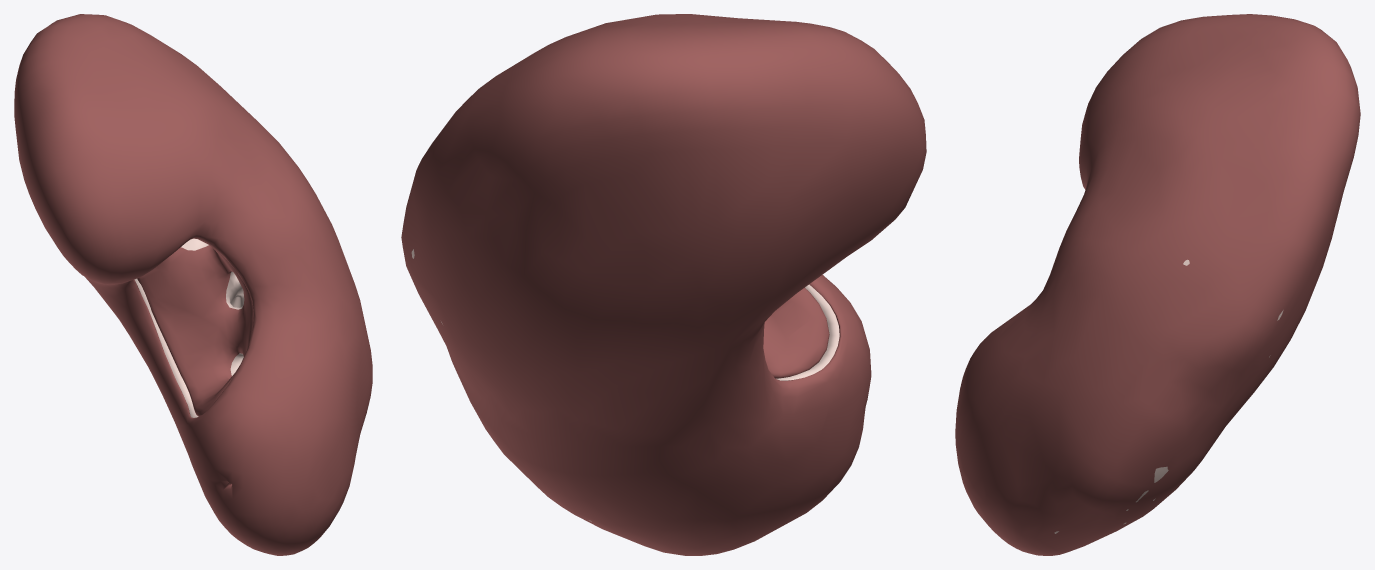
Rendered from VH_M_Kidney_L.glb.
3 renders of one model, left to right at view 1: azimuth 30°, elevation 25°; view 2: azimuth 150°, elevation 25°; view 3: azimuth 270°, elevation 25°, orthographic. The views are drawn at different scales.
Size of the model in its own units: 0.0757 by 0.1065 by 0.0824.
